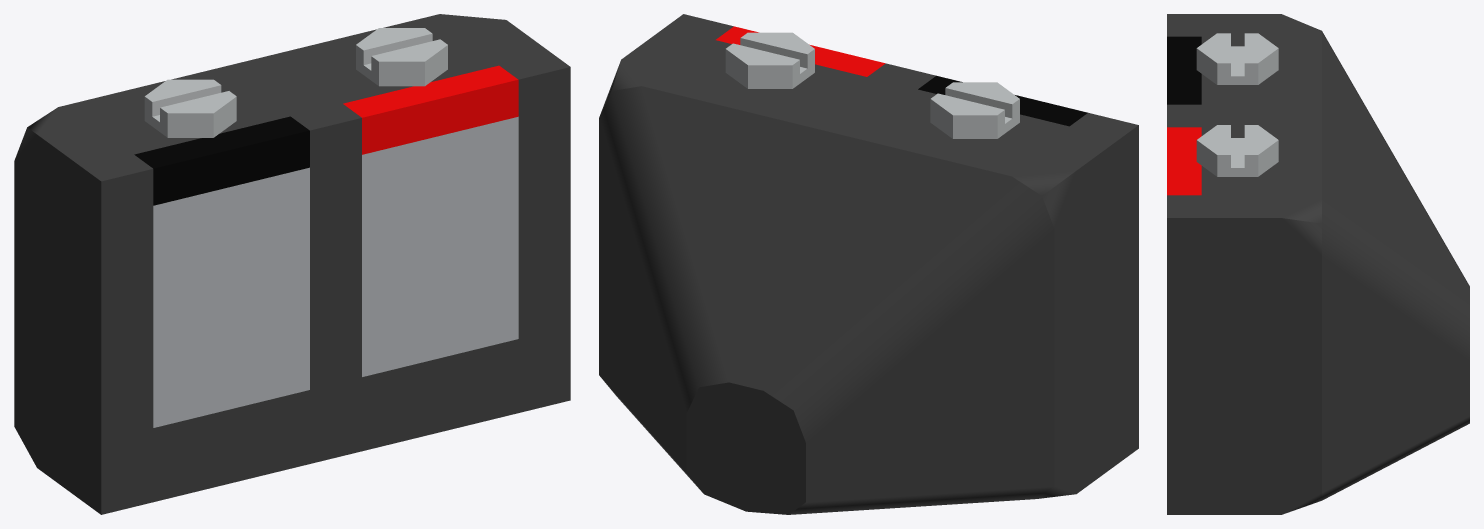
File: TerminalBlockTwoConductor.fbx
3 renders of one model, left to right at view 1: azimuth 30°, elevation 25°; view 2: azimuth 150°, elevation 25°; view 3: azimuth 270°, elevation 25°, orthographic. The views are drawn at different scales.
Visible parts, largest first — view 1: TerminalBlockTwoConductor; view 2: TerminalBlockTwoConductor; view 3: TerminalBlockTwoConductor.
Part boxes in pixels (x1,y1,x2,y2): TerminalBlockTwoConductor: (14, 14, 570, 514); TerminalBlockTwoConductor: (599, 14, 1138, 514); TerminalBlockTwoConductor: (1167, 14, 1469, 514).
Size of the model in its own units: 20 by 14.58 by 12.54.
